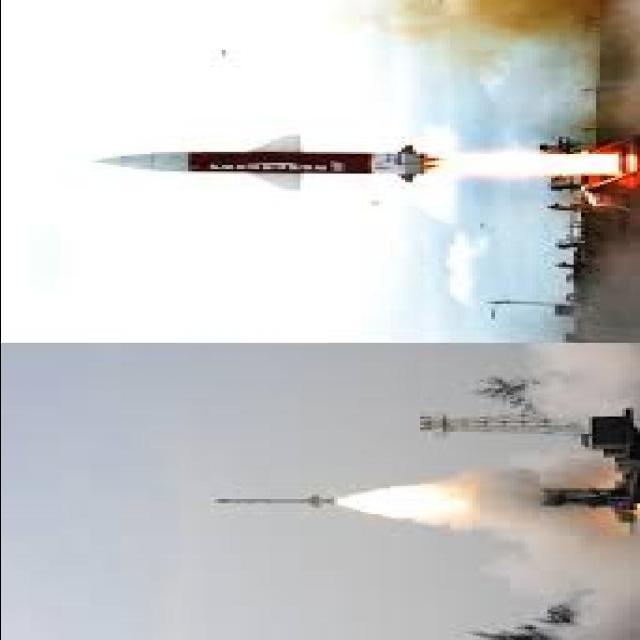Missile: (88, 129, 432, 196), (202, 493, 341, 511)
